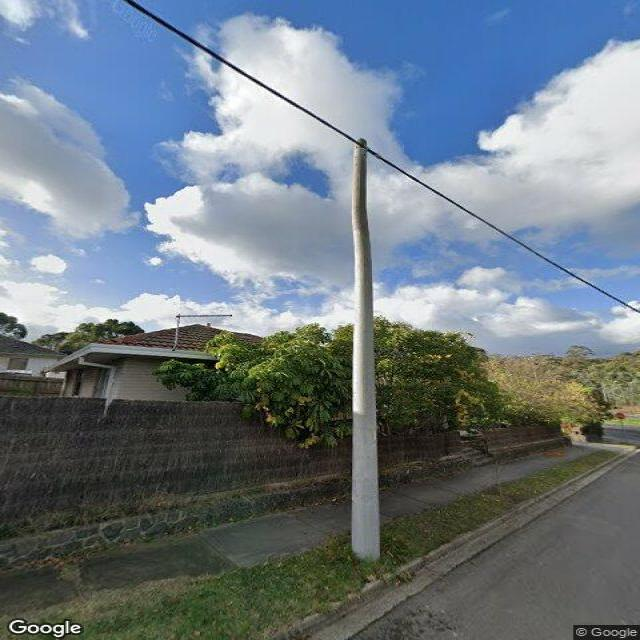concrete-pole: (349, 141, 378, 559)
